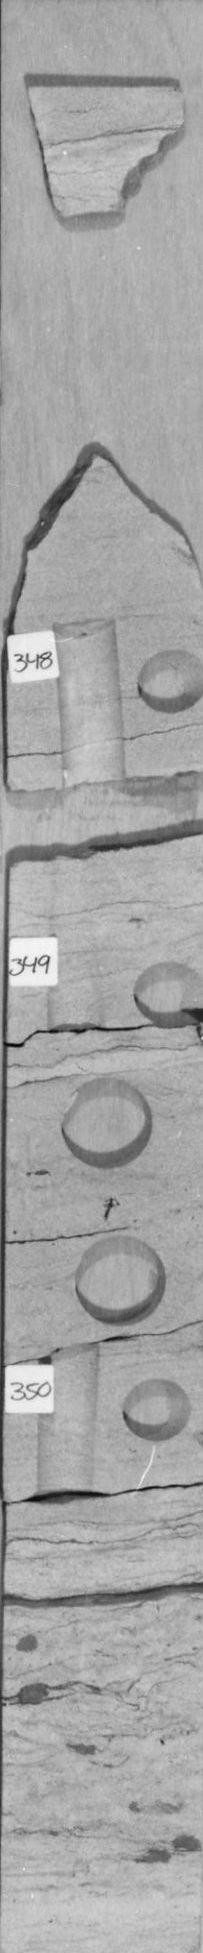hplug: (118, 1373, 196, 1447), (136, 643, 203, 715), (130, 957, 203, 1021)
scal: (56, 1071, 159, 1173), (72, 1233, 171, 1331)
vplug: (46, 613, 136, 785), (40, 861, 118, 1033), (30, 1341, 106, 1503)
